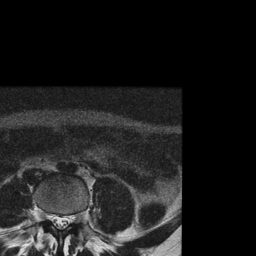CCS_stenosis: (57, 207, 64, 236)
LFS_normal: (72, 205, 80, 230)
LLS_normal: (64, 205, 72, 233)
RFS_normal: (43, 202, 50, 228)
RLS_normal: (50, 204, 57, 232)
